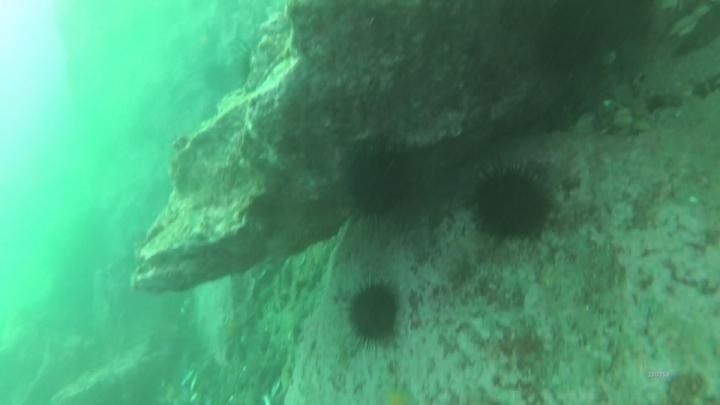echinus: (468, 161, 555, 244), (341, 144, 418, 222), (342, 278, 405, 349)
starfish: (373, 381, 421, 404)
